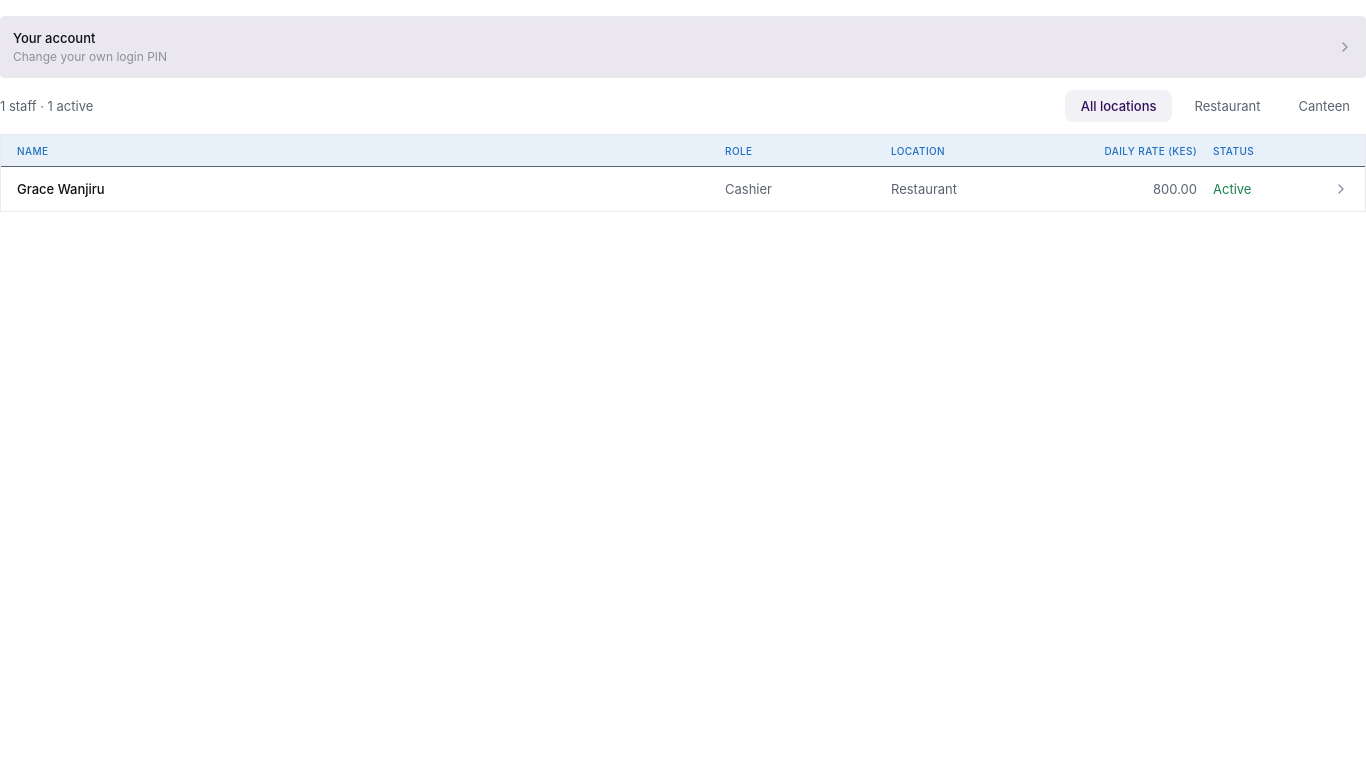
Test: Roster — your account PIN change › changes the signed-in user's own PIN
Click the button with aria-label "Change your PIN".
click(54, 38)  # box [0,16,1365,78]
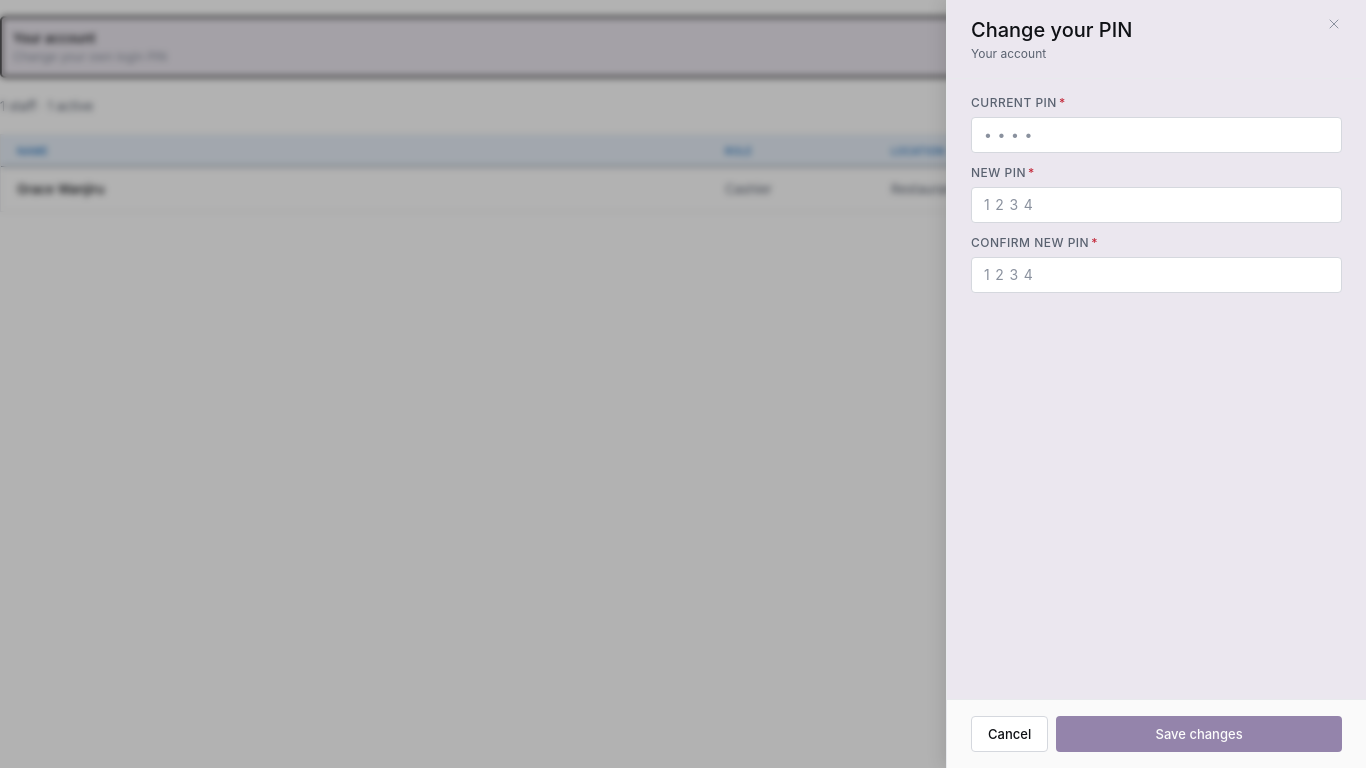
Type "1234" into the password field labelled "Current PIN*".
click(1156, 135); type("1234")  # box [984,125,1329,145]
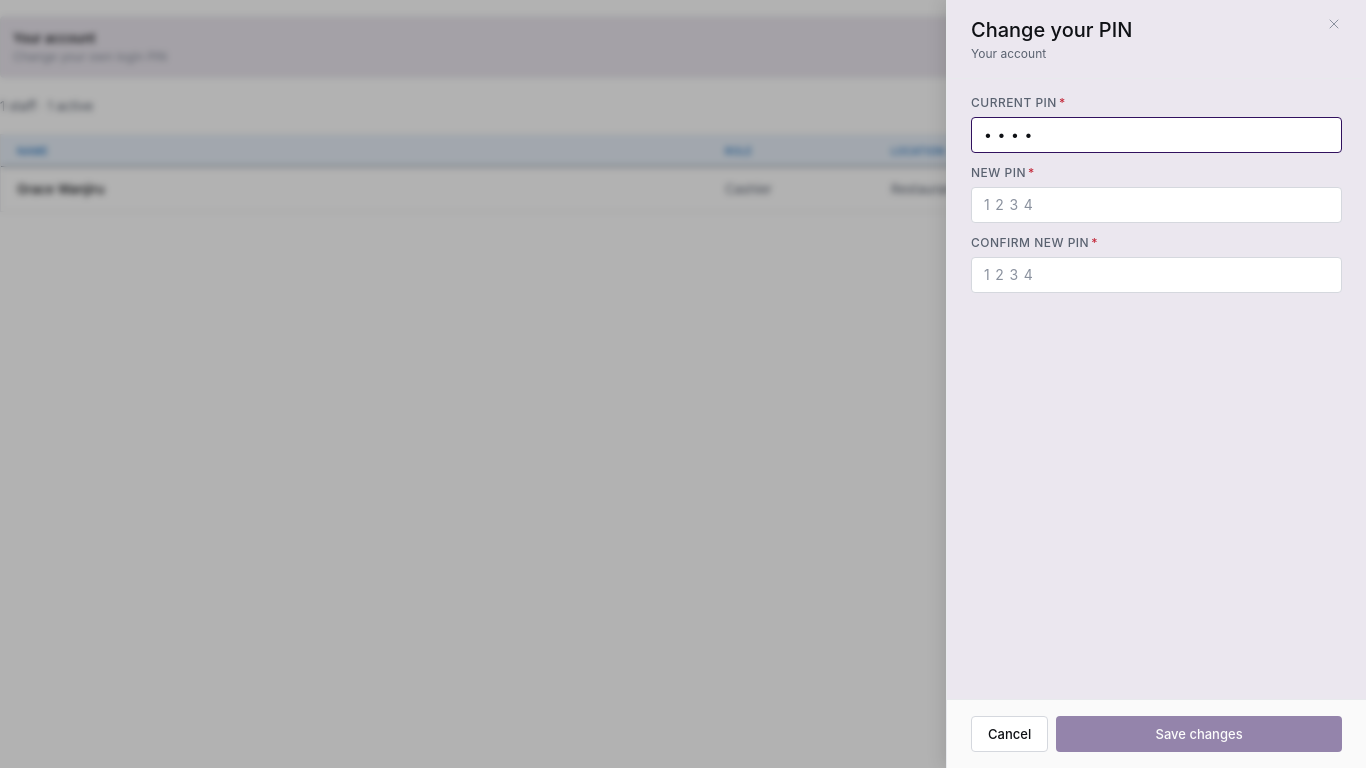
Type "5678" into the password field labelled "New PIN*".
click(1156, 205); type("5678")  # box [984,195,1329,215]
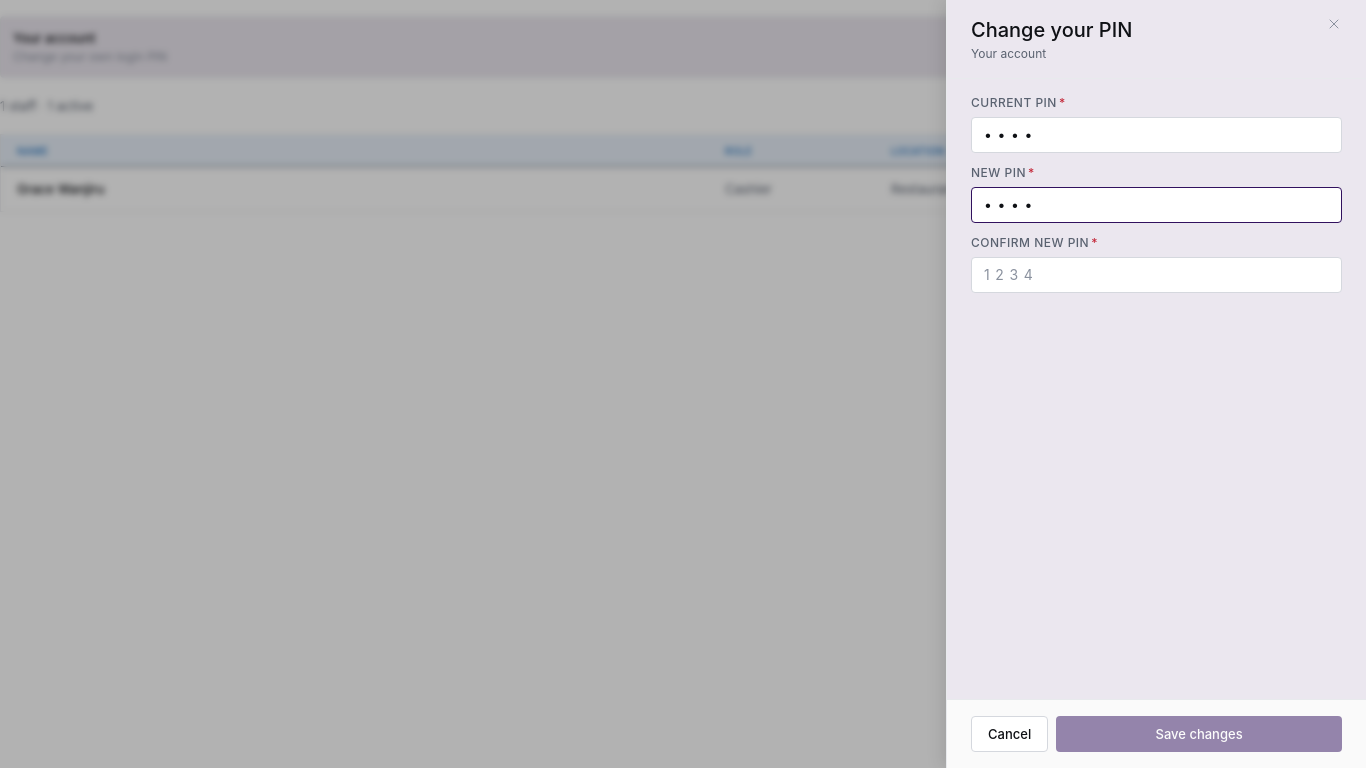
Type "5678" into the password field labelled "Confirm new PIN*".
click(1156, 275); type("5678")  # box [984,265,1329,285]
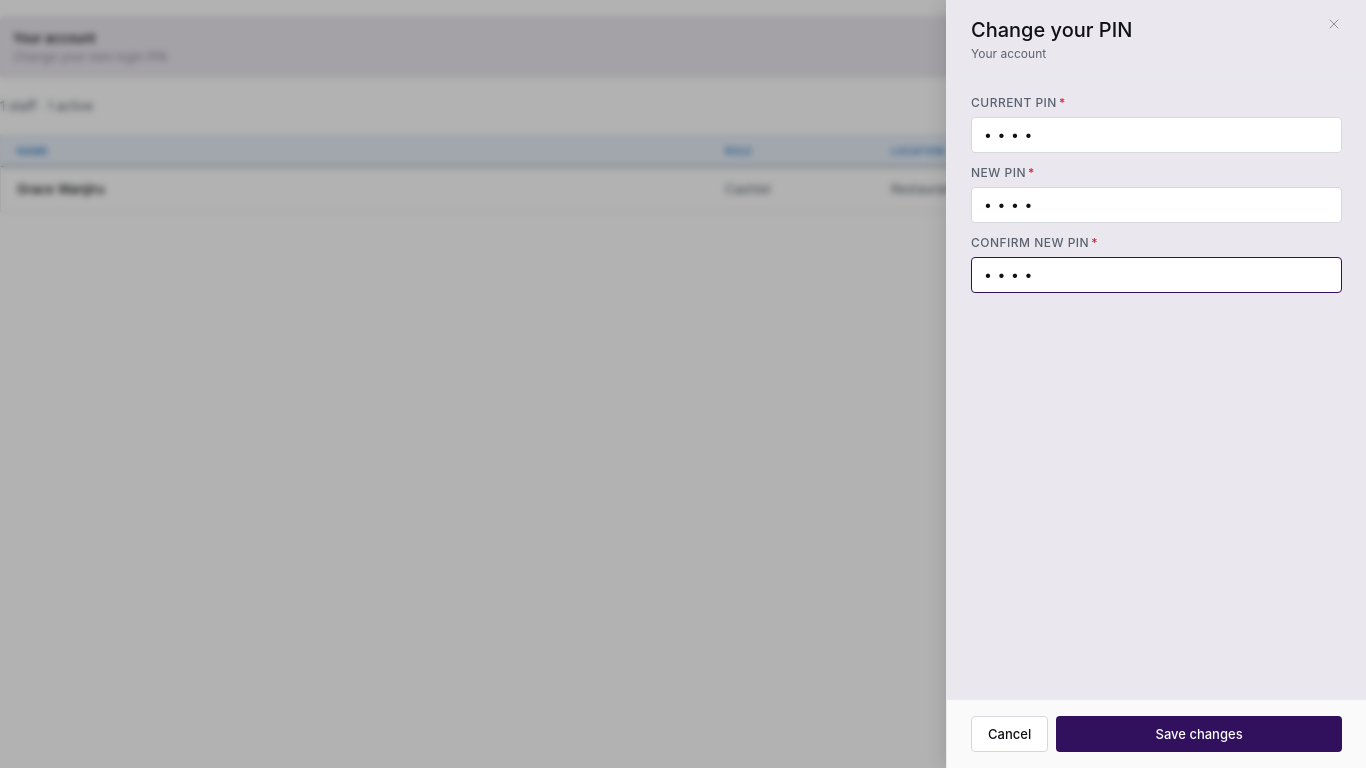
Click the button "Save changes".
click(1199, 734)  # box [1056,716,1342,752]
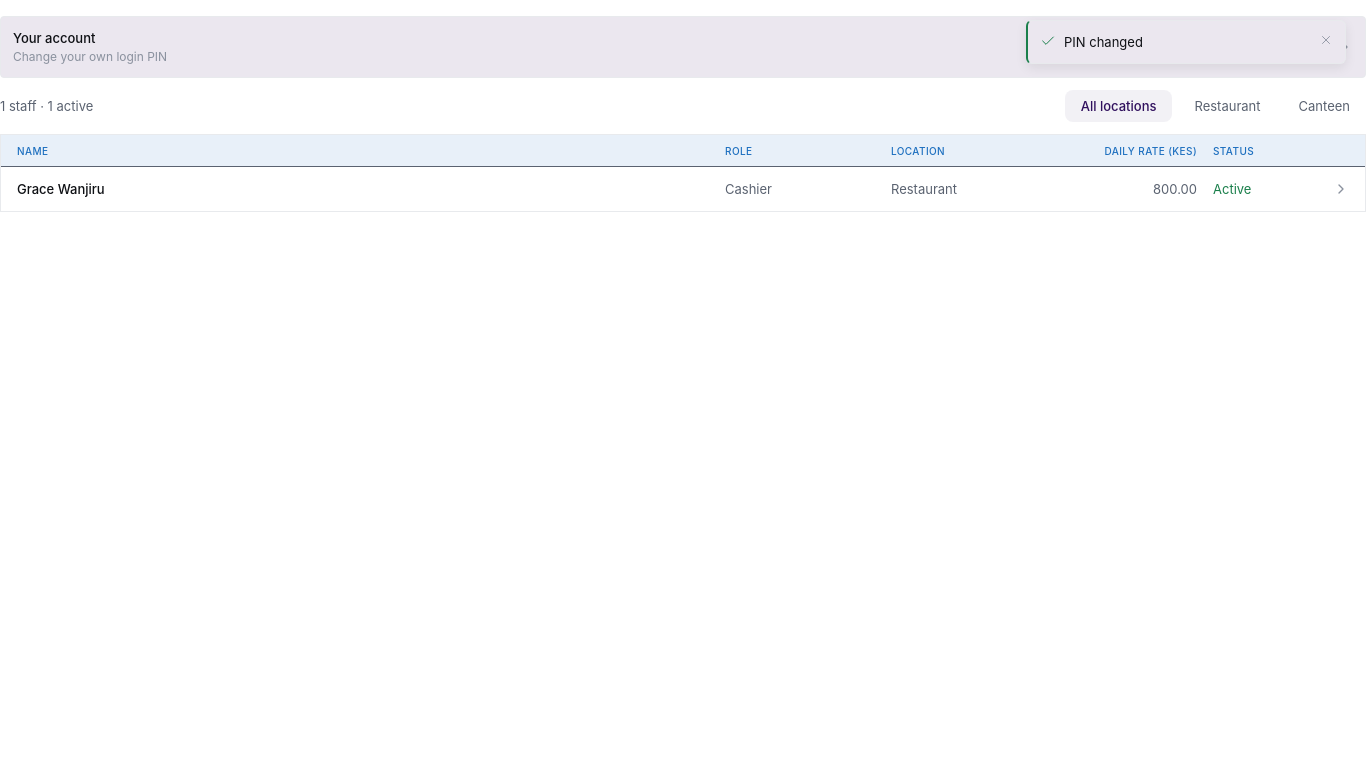
Check: the text "PIN changed" is shown, box [1064,34,1143,50]
